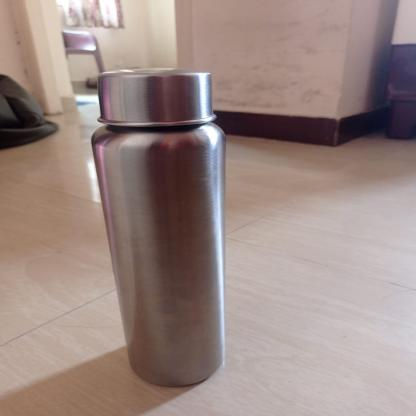bottle: (91, 68, 229, 390)
